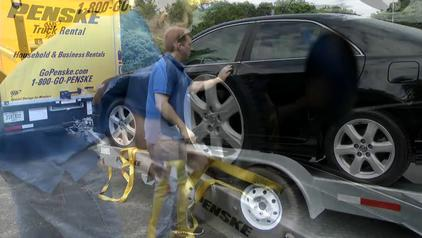crouch: (141, 42, 200, 151)
